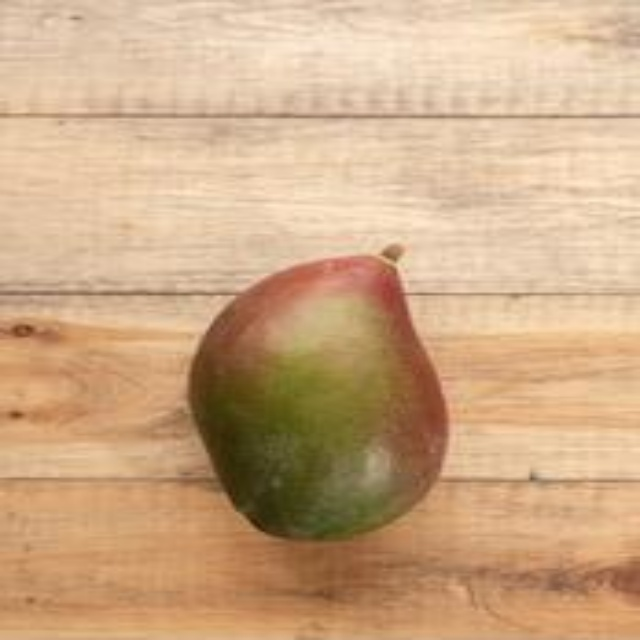mango: (196, 245, 444, 544)
